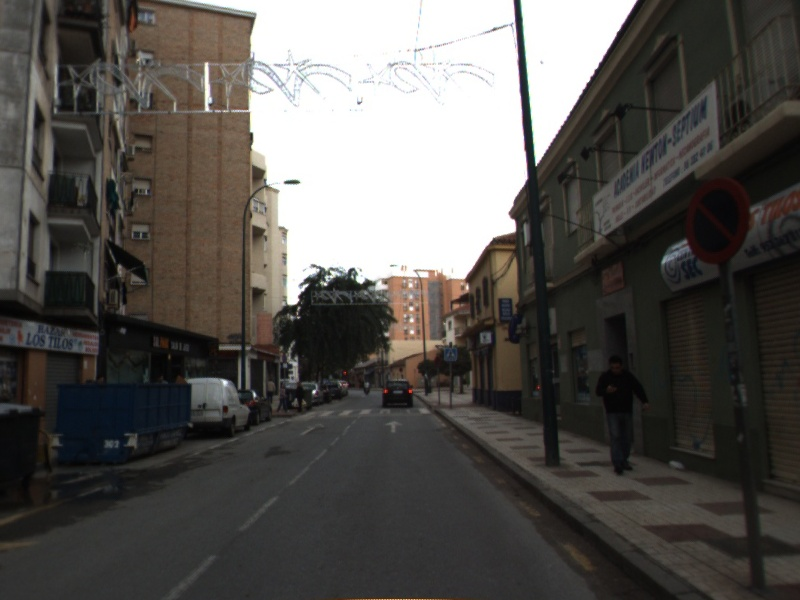STRAIGHT: (296, 421, 327, 438), (382, 419, 405, 434)
